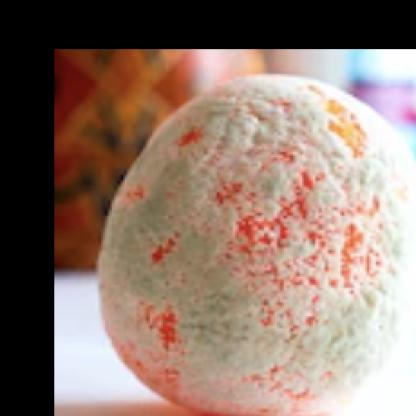rotten: (103, 74, 416, 416)
